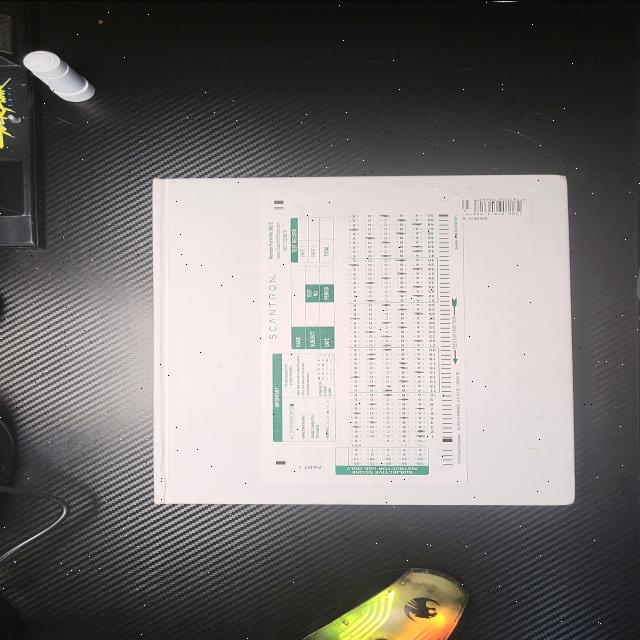scantron: (256, 186, 466, 484)
